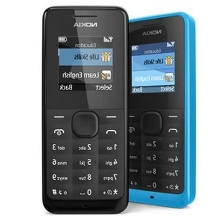phone: (39, 2, 131, 216), (104, 9, 198, 212)
